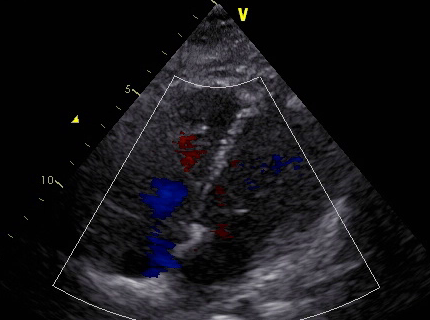TR: (125, 184, 198, 257)
